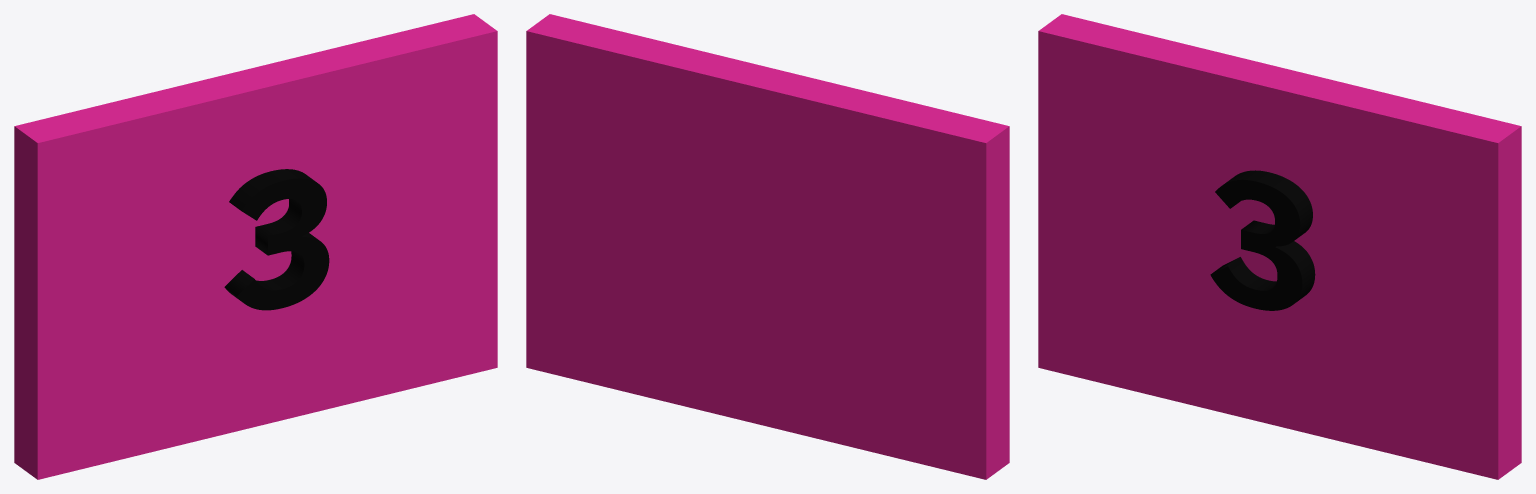
Rendered from tagpink3_2.glb.
The picture shows the model from 3 angles, left to right: view 1: azimuth 30°, elevation 25°; view 2: azimuth 150°, elevation 25°; view 3: azimuth 330°, elevation 25°; orthographic projection.
Parts seen in each view (by area): view 1: Plane.028, Text.024; view 2: Plane.028; view 3: Plane.028, Text.024.
Boxes of the visible parts, left/top/right/bottom form: Plane.028: left=14, top=14, right=497, bottom=479; Text.024: left=224, top=169, right=329, bottom=310; Plane.028: left=526, top=14, right=1009, bottom=479; Plane.028: left=1038, top=14, right=1521, bottom=479; Text.024: left=1210, top=170, right=1315, bottom=310.
Bounding box in the file's own units: 0.2 × 0.14 × 0.0279.
